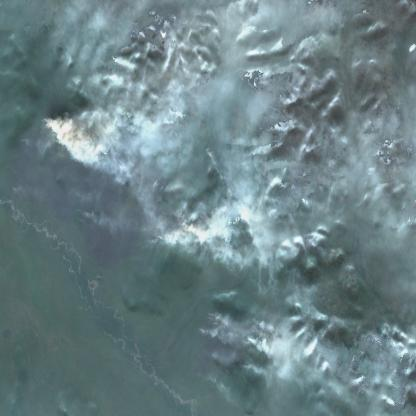fire: (39, 110, 62, 145), (146, 216, 164, 254), (200, 306, 216, 346), (76, 190, 88, 231), (243, 324, 254, 358), (200, 369, 215, 387)
